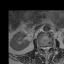CCS_normal: (44, 44, 47, 53)
LFS_stenosis: (49, 45, 51, 50)
LLS_normal: (47, 45, 49, 52)
RFS_stenosis: (40, 45, 42, 50)
RLS_normal: (42, 45, 44, 51)
